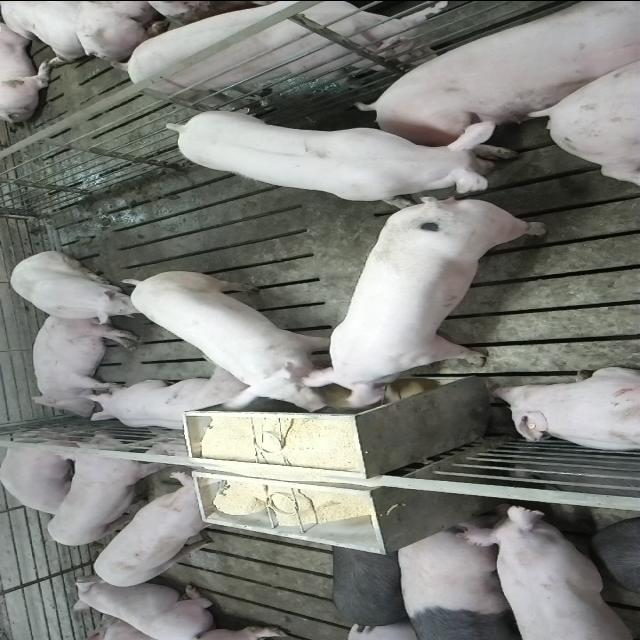Feeding: (300, 196, 550, 408), (116, 264, 347, 410)
Lateral_lying: (358, 3, 636, 162), (28, 312, 140, 418)
Sitting: (6, 250, 150, 326)
Standing: (110, 0, 450, 104), (158, 106, 518, 204), (459, 499, 640, 638), (92, 472, 237, 588), (389, 518, 527, 638)
Sternal_lying: (490, 368, 640, 454), (84, 370, 270, 432), (72, 580, 222, 638), (2, 434, 88, 516)
